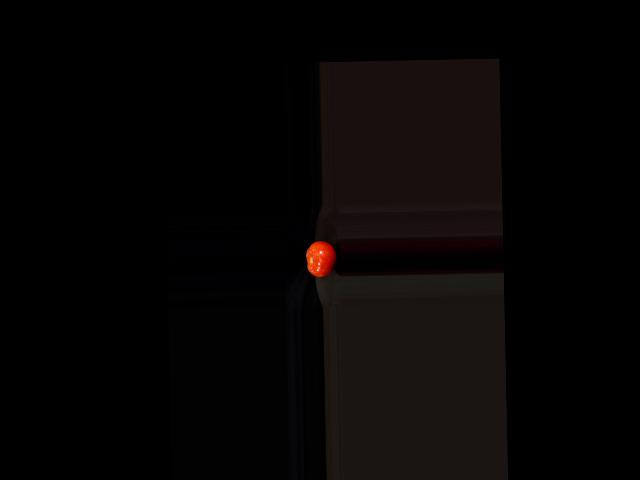tomato: (305, 240, 337, 277)
